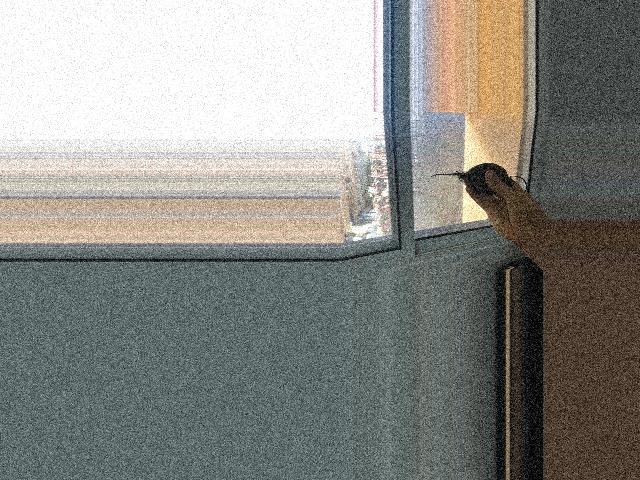beet: (429, 163, 526, 205)
